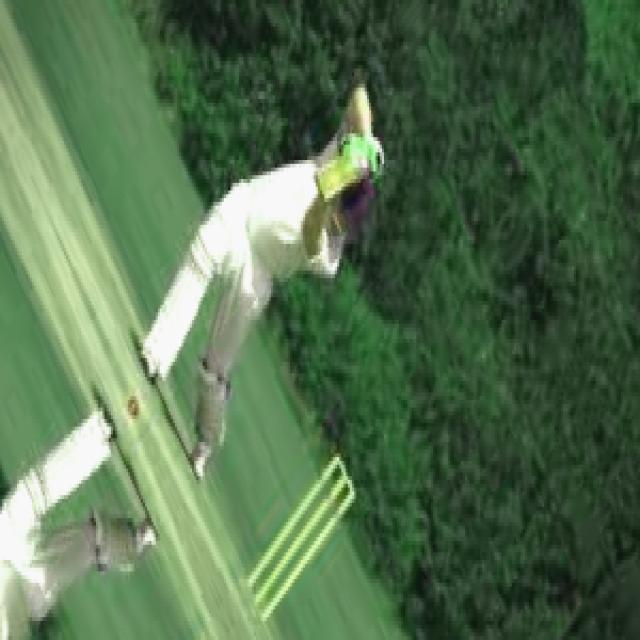bat: (298, 151, 368, 213)
toe: (310, 166, 328, 210)
